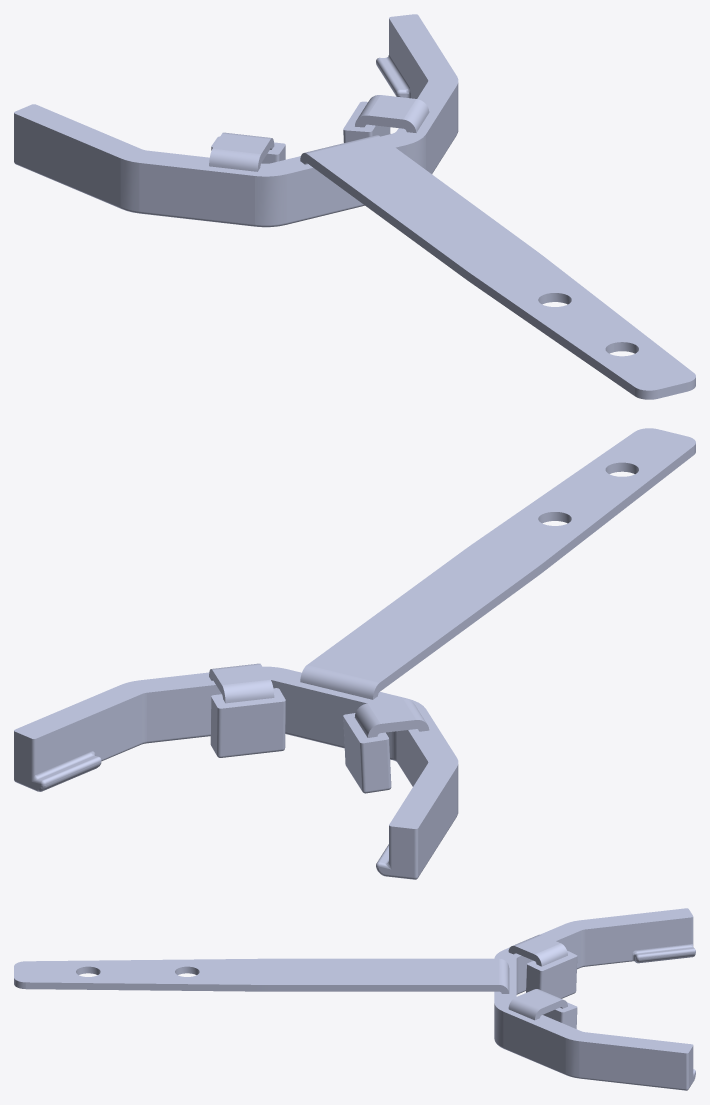
The model's file is va-dent-1.glb.
3 renders of one model, top to bottom at view 1: azimuth 30°, elevation 25°; view 2: azimuth 150°, elevation 25°; view 3: azimuth 270°, elevation 25°, orthographic. The views are drawn at different scales.
Visible parts, largest first — view 1: empty_3, empty_2, empty_4; view 2: empty_3, empty_2, empty_4, empty_5; view 3: empty_3, empty_2, empty_5, empty_4.
Part boxes in pixels (left/top/right/bottom): empty_3: left=27, top=19, right=695, bottom=399; empty_2: left=14, top=14, right=458, bottom=227; empty_4: left=343, top=101, right=390, bottom=142; empty_3: left=27, top=428, right=695, bottom=823; empty_2: left=14, top=666, right=458, bottom=879; empty_4: left=210, top=688, right=285, bottom=757; empty_5: left=343, top=713, right=391, bottom=793; empty_3: left=14, top=912, right=684, bottom=1049; empty_2: left=494, top=908, right=695, bottom=1090; empty_5: left=526, top=950, right=577, bottom=998; empty_4: left=543, top=1002, right=577, bottom=1028.
Size of the model in its own units: 69.33 by 10.6 by 138.
